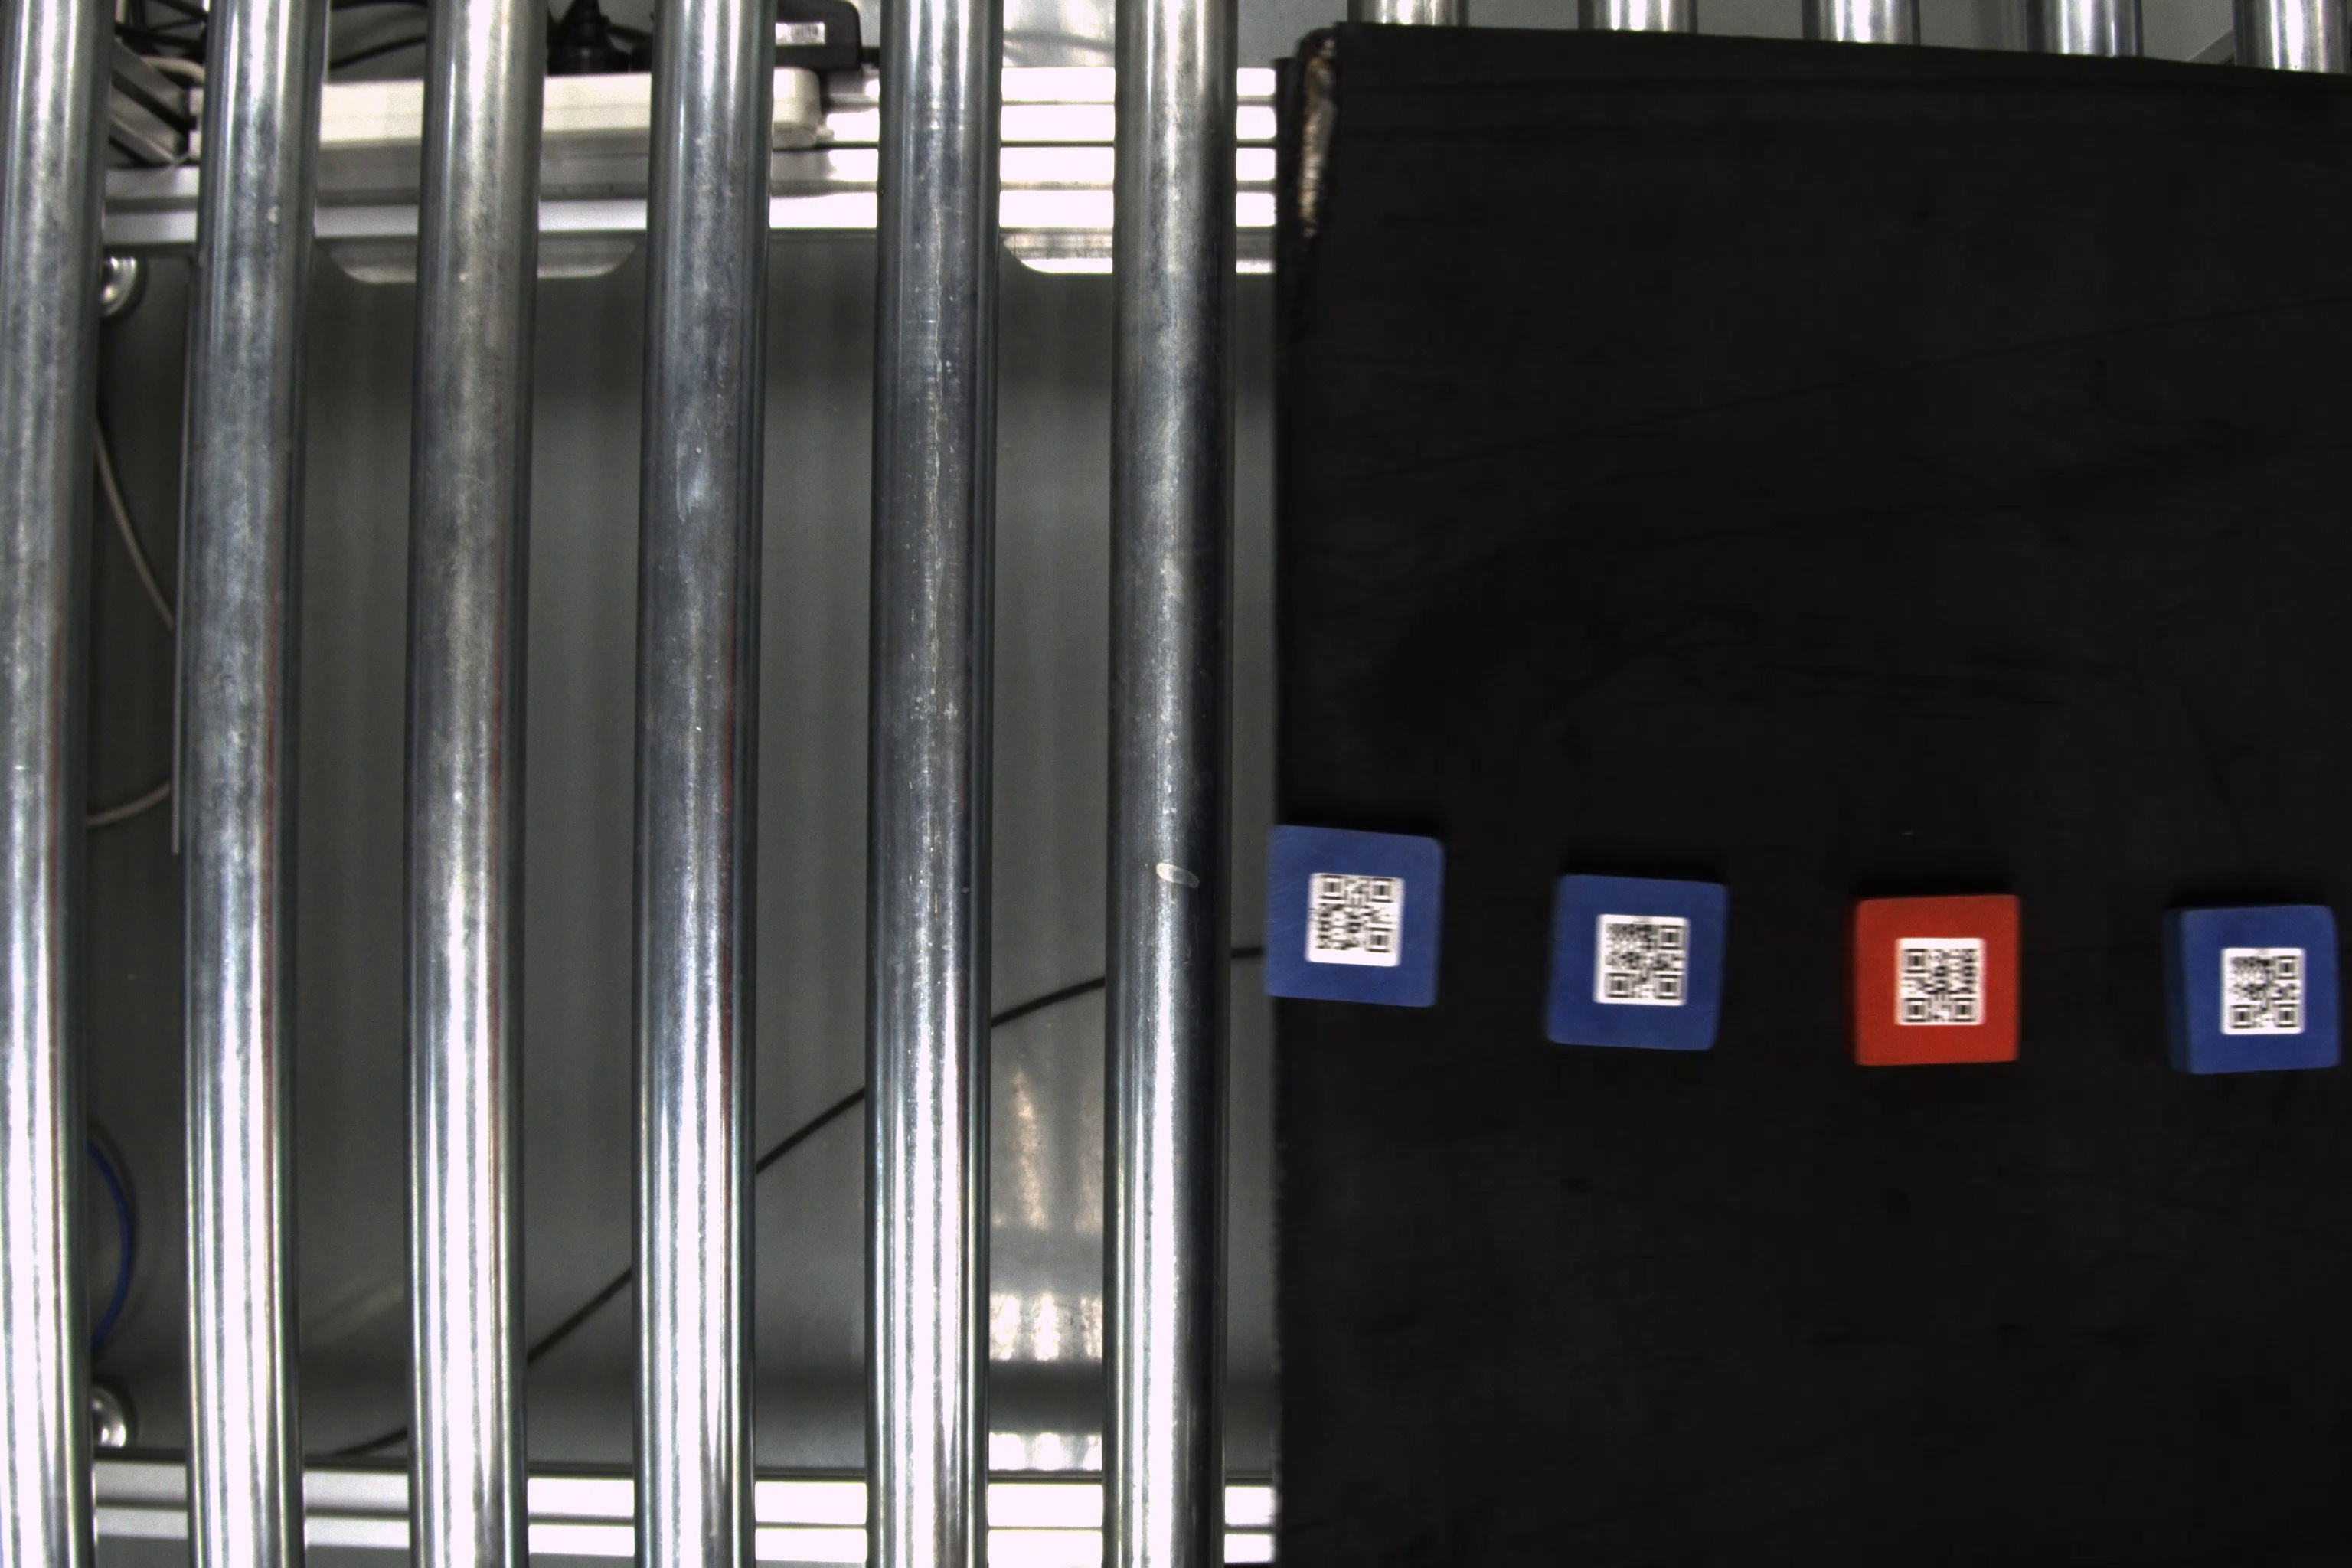wood: (1258, 817, 1451, 1018), (1543, 868, 1736, 1057), (2156, 896, 2347, 1081), (1837, 894, 2030, 1071)
